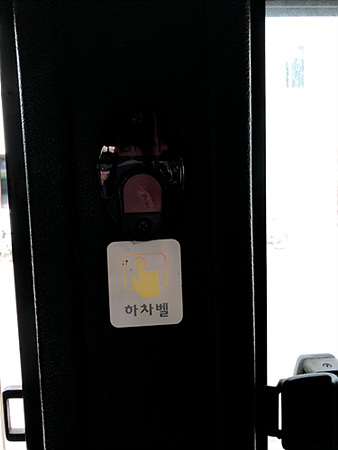bell: (95, 88, 187, 240)
